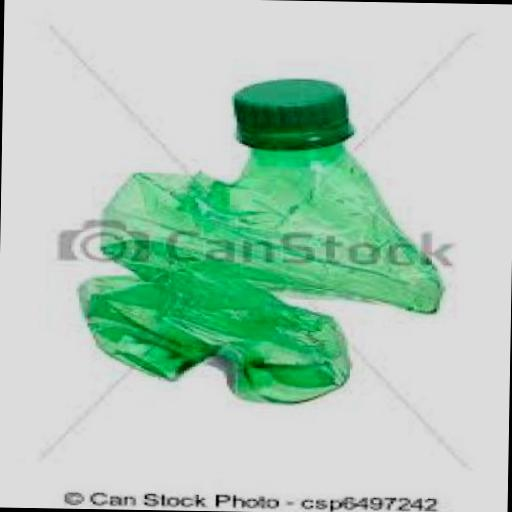plastic: (75, 76, 444, 402), (233, 76, 349, 149)
